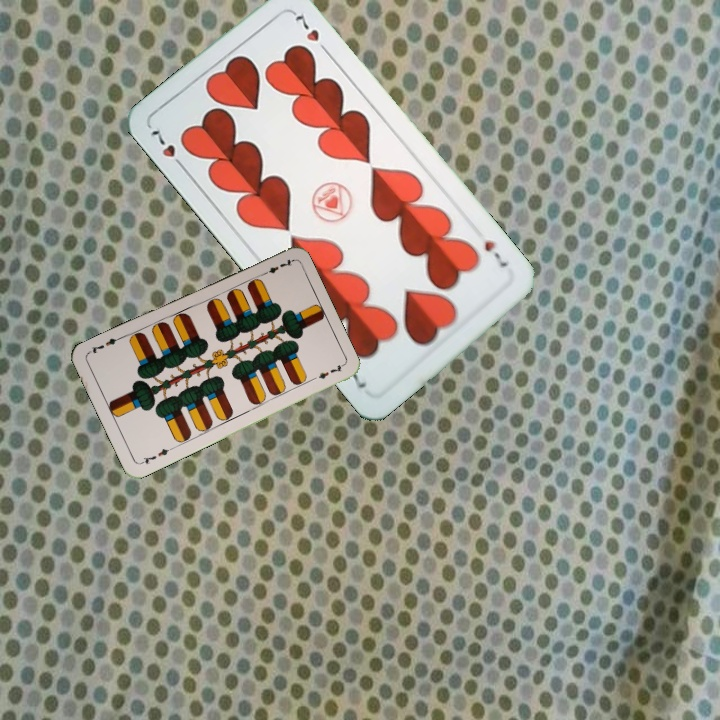E7: (256, 255, 295, 279), (137, 443, 175, 467)
H7: (144, 122, 188, 173), (480, 236, 511, 270)
